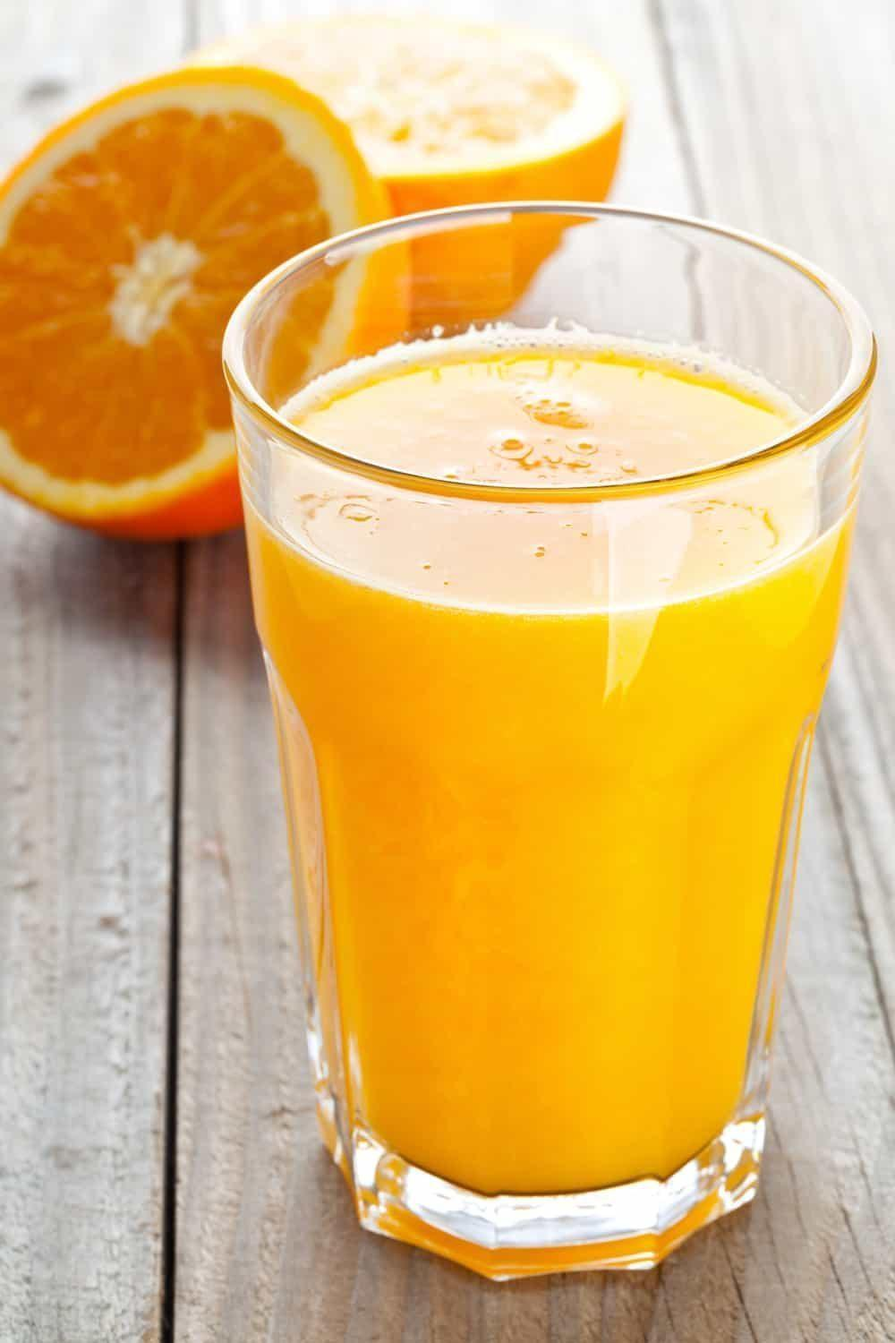glass-normal: (209, 210, 880, 1292)
